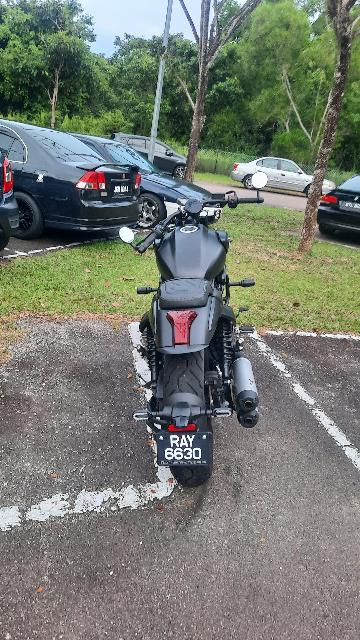License_Plate: (151, 427, 220, 471)
motorcycle: (122, 168, 266, 488)
